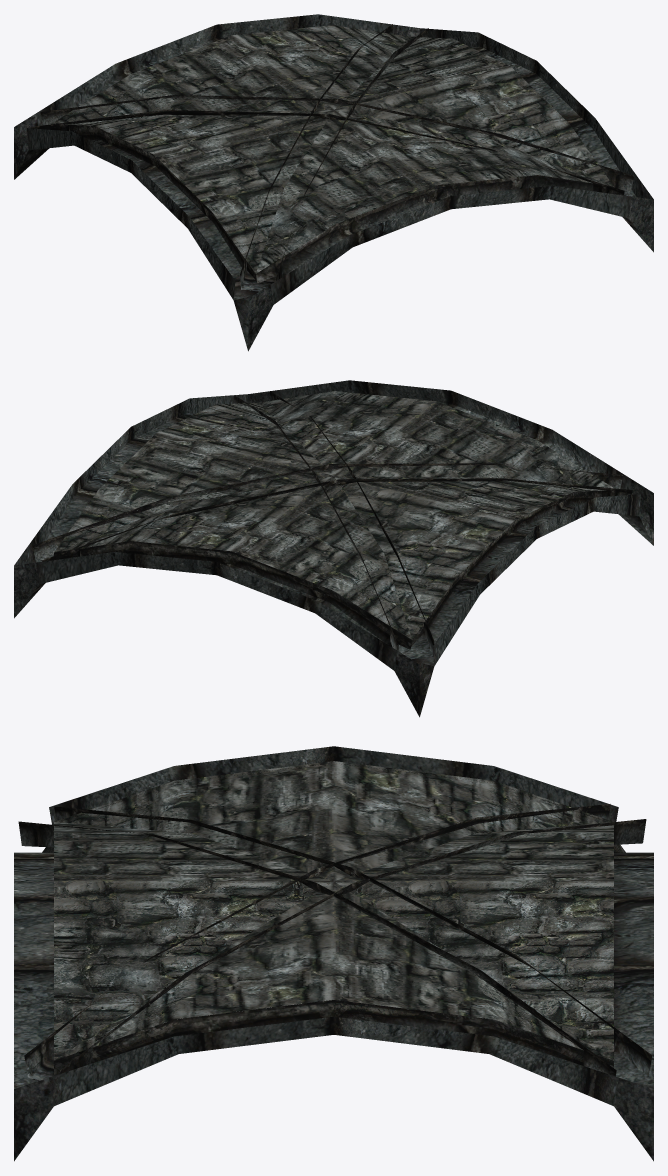
File: corridor02_4way.dae
3 renders of one model, top to bottom at view 1: azimuth 30°, elevation 25°; view 2: azimuth 150°, elevation 25°; view 3: azimuth 270°, elevation 25°, orthographic. The views are drawn at different scales.
Parts seen in each view (by area): view 1: polySurface172, polySurface170, polySurface166, polySurface167; view 2: polySurface172, polySurface170, polySurface167, polySurface166; view 3: polySurface172, polySurface170, polySurface167, polySurface166.
Boxes of the visible parts, x1=… form: polySurface172: x1=51, y1=25, x2=613, y2=273; polySurface170: x1=14, y1=14, x2=653, y2=351; polySurface166: x1=31, y1=95, x2=634, y2=195; polySurface167: x1=240, y1=24, x2=428, y2=291; polySurface172: x1=54, y1=391, x2=613, y2=639; polySurface170: x1=14, y1=380, x2=653, y2=717; polySurface167: x1=32, y1=463, x2=632, y2=562; polySurface166: x1=234, y1=391, x2=434, y2=659; polySurface172: x1=54, y1=761, x2=613, y2=1060; polySurface170: x1=14, y1=746, x2=653, y2=1161; polySurface167: x1=18, y1=806, x2=652, y2=1082; polySurface166: x1=24, y1=804, x2=646, y2=1081.
Size of the model in its own units: 4 by 1.04 by 4.
